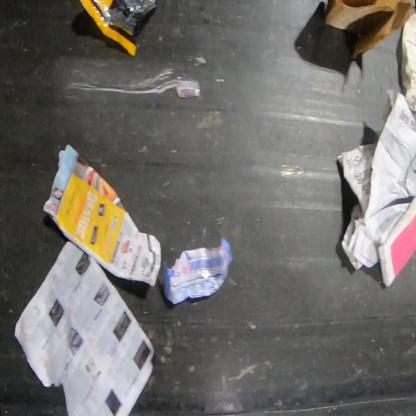cardboard: (41, 141, 162, 288), (322, 0, 415, 62)
soft_plastic: (157, 236, 234, 306), (79, 0, 157, 57)
